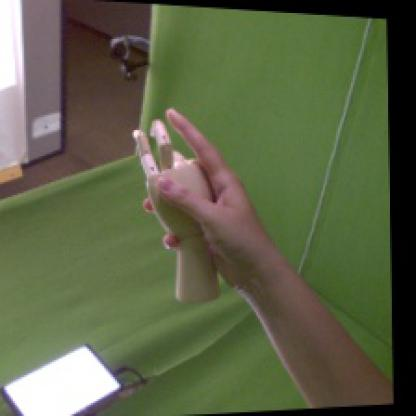Hand: (156, 108, 266, 288)
